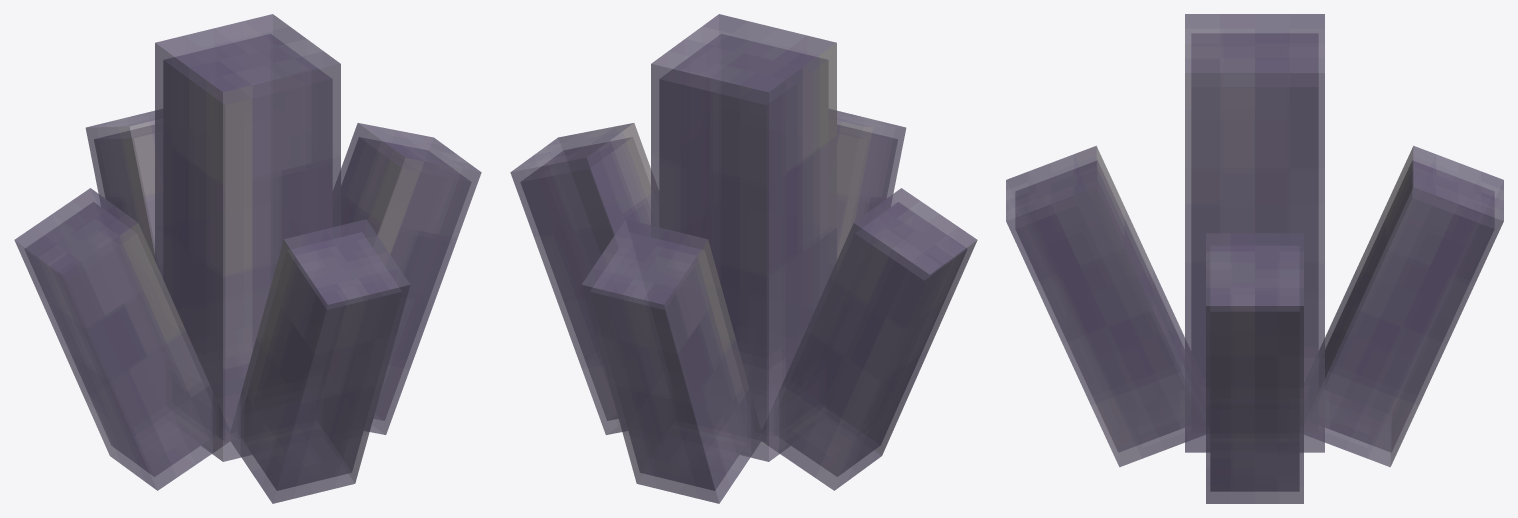
The model's file is amethyst.gltf.
3 views of the same model, side by side, from view 1: azimuth 30°, elevation 25°; view 2: azimuth 150°, elevation 25°; view 3: azimuth 270°, elevation 25° (orthographic). The views are drawn at different scales.
Visible parts, largest first — view 1: in.001; view 2: in.001; view 3: in.001.
Boxes of the visible parts, bbox=[...] form: in.001: bbox=[14, 14, 481, 503]; in.001: bbox=[510, 14, 977, 503]; in.001: bbox=[1006, 14, 1503, 503].
Bounding box in the file's own units: 1.95 × 1.75 × 1.95.
Materials: 1 (1 with a texture image).
